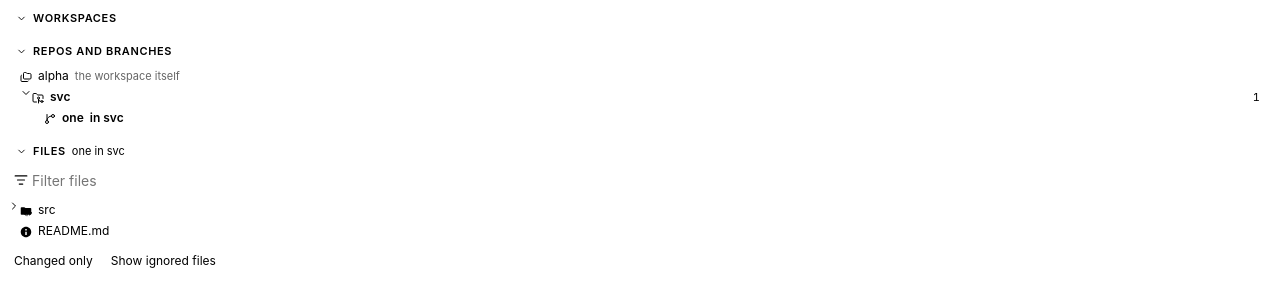
Test: the file a chat is touching › marks nothing for a chat working elsewhere, or for another project
Step 1. Click the list item "src" → (14, 206), box [8,200,1272,221]
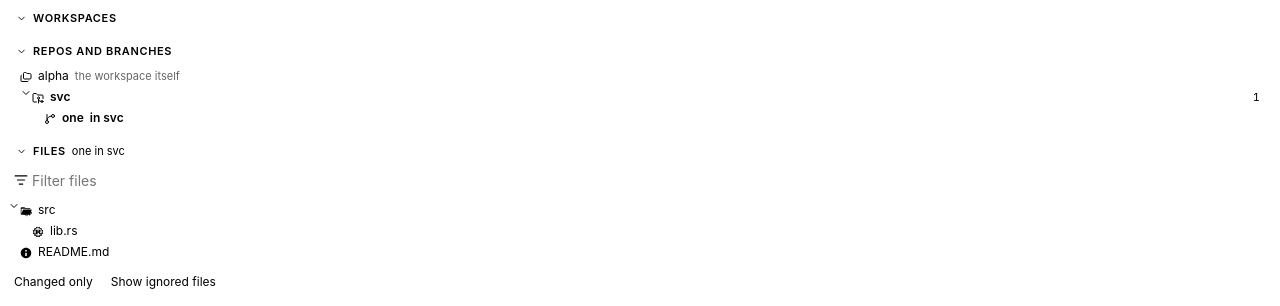
Expected: the list item "lib.rs" is shown, [8,221,1272,242]
